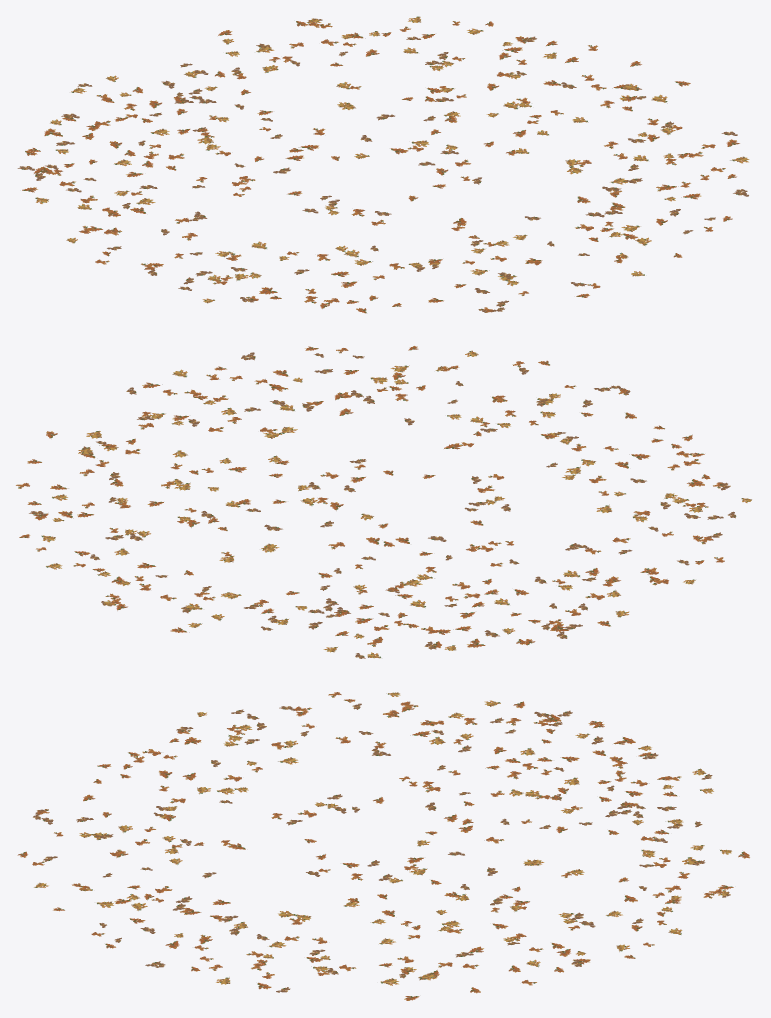
The model's file is hetre_adulte_b.fbx.
3 renders of one model, top to bottom at view 1: azimuth 30°, elevation 25°; view 2: azimuth 150°, elevation 25°; view 3: azimuth 270°, elevation 25°, orthographic.
Visible parts, largest first — view 1: hetre_adulte_b_feuilles_sol; view 2: hetre_adulte_b_feuilles_sol; view 3: hetre_adulte_b_feuilles_sol.
Part boxes in pixels (box(x1,y1,x2,y2)): hetre_adulte_b_feuilles_sol: box(17, 16, 749, 313); hetre_adulte_b_feuilles_sol: box(16, 346, 751, 658); hetre_adulte_b_feuilles_sol: box(17, 692, 749, 1000).
Size of what is drawn, in the model's own units: 14.54 by 0.00594 by 14.56.
